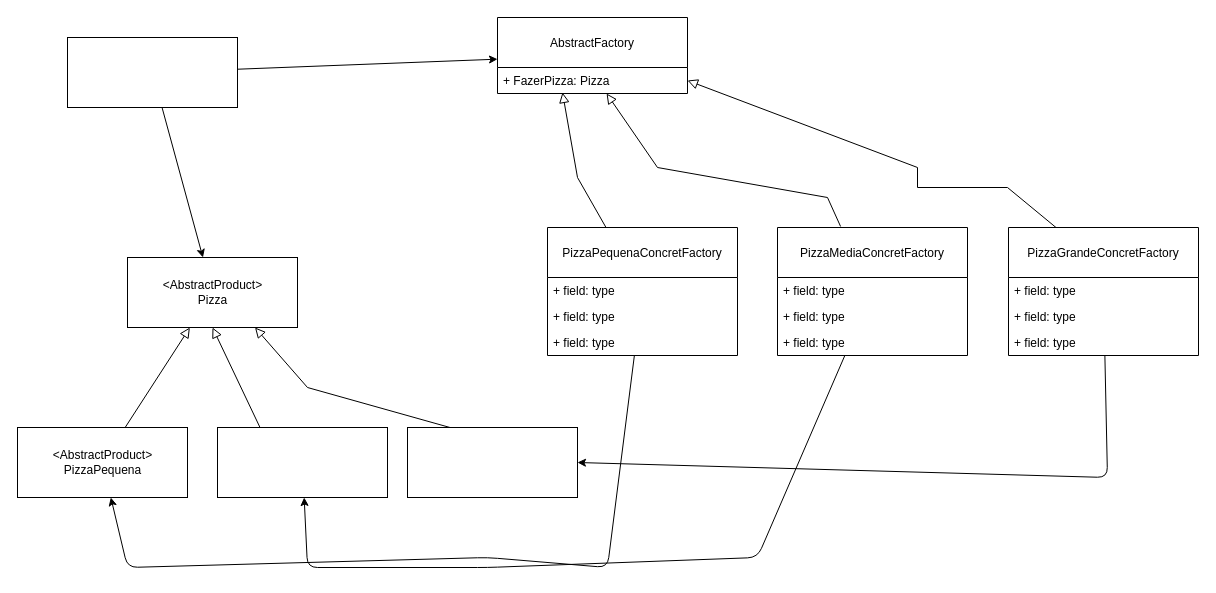
Image size: 1216x593. Some labels were removed from this diagram. The shapes that lost their labels are listed below. From the top down, each one's centre as x and y in pixels, then its label:
At point 152,72: "<ClientClass> Forno".
At point 302,462: "<AbstractProduct> PizzaMedia".
At point 492,462: "<AbstractProduct> PizzaGrande".
